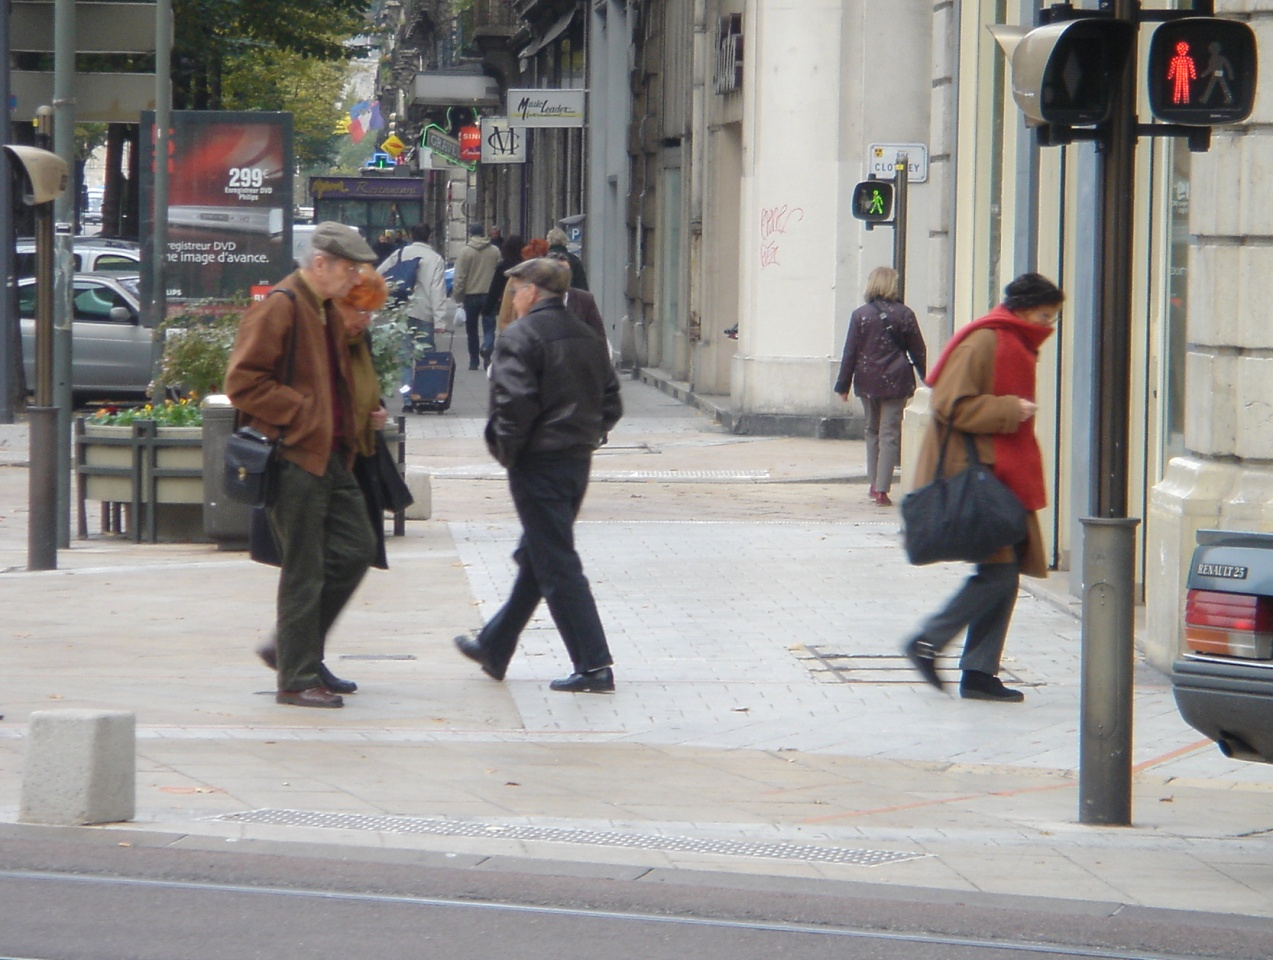person: (248, 219, 391, 704), (940, 270, 1062, 700), (489, 261, 606, 691)
